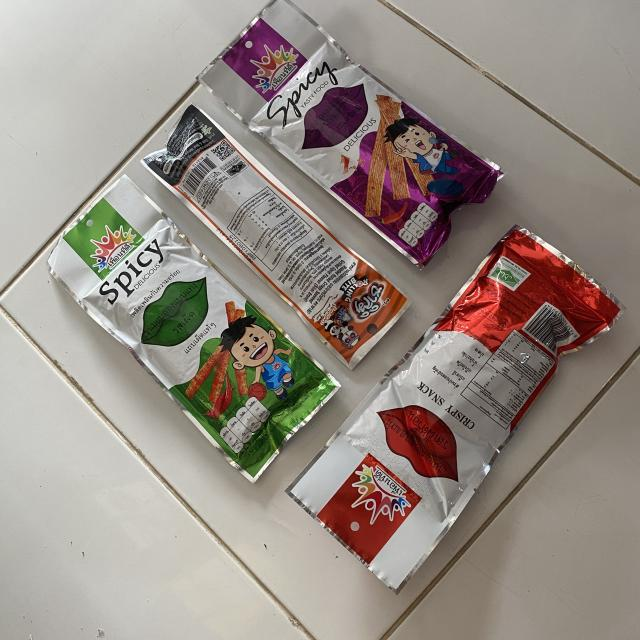plastik: (288, 226, 624, 592), (48, 175, 340, 482), (199, 0, 501, 265), (142, 105, 410, 369)
